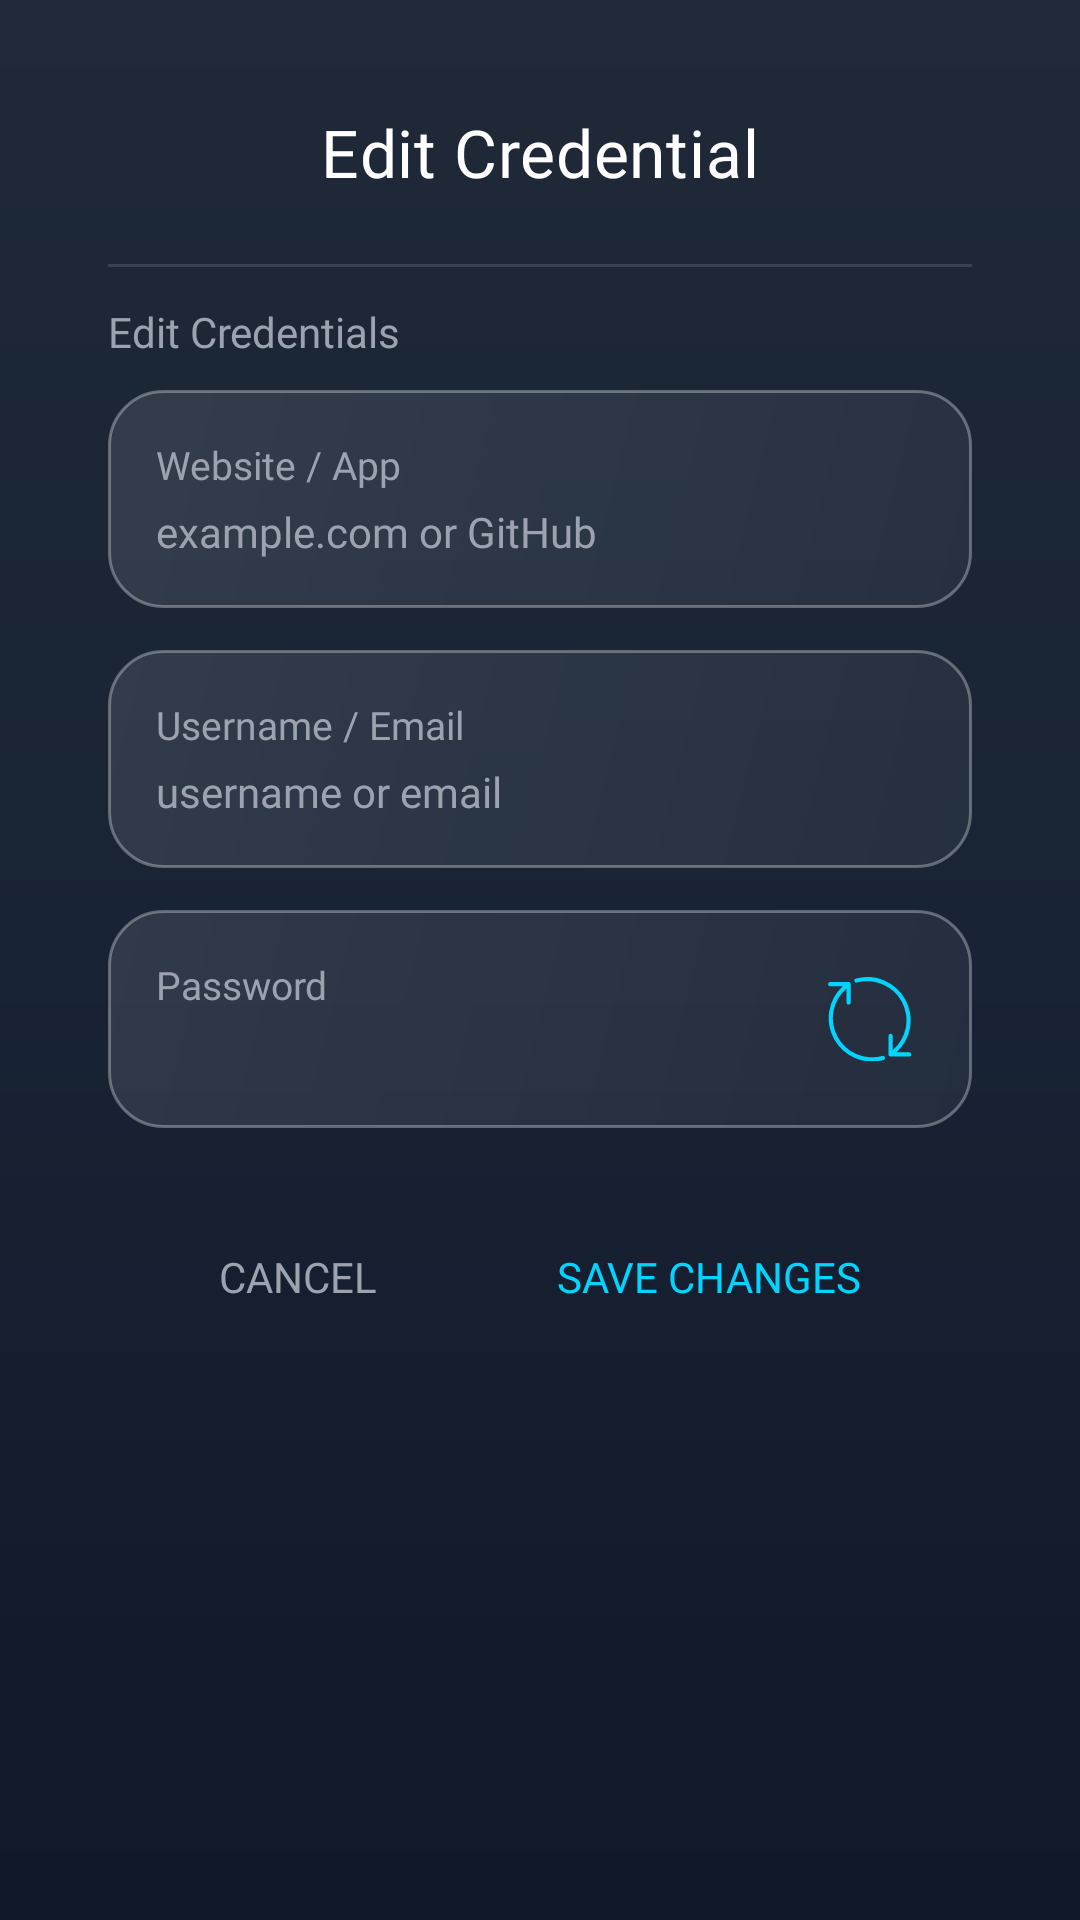

Named icons in this screenshot (1080px×1920px) and their centers, [x,y]:
Generate new password: [870,1019]
